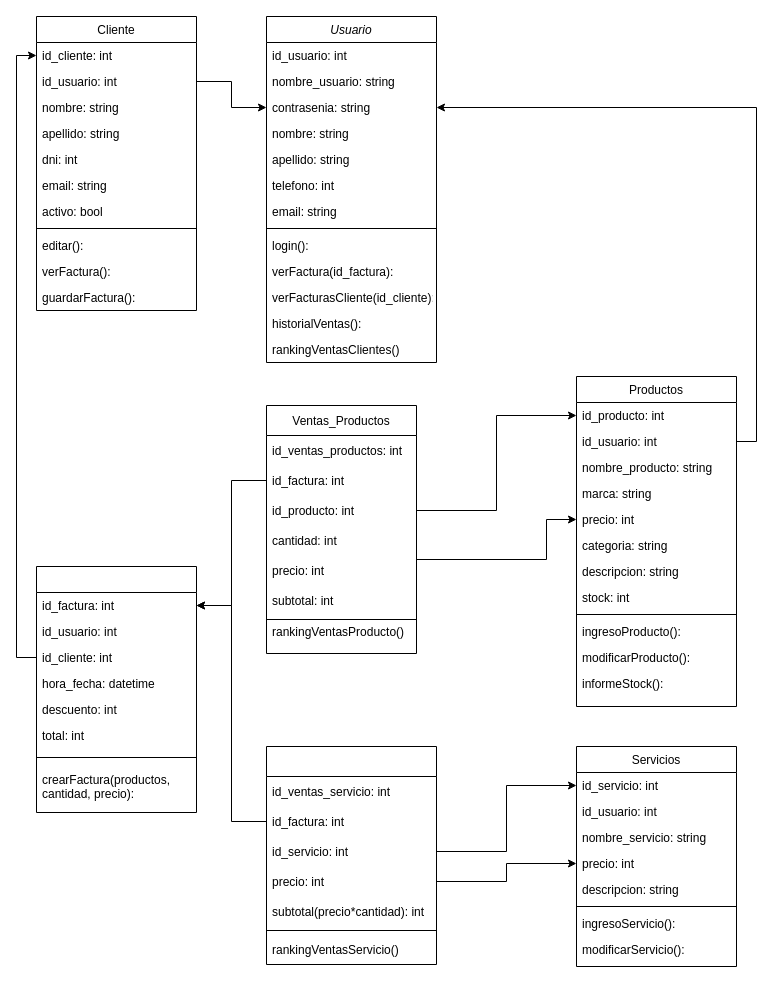
This 773x983 diagram has some shape labels left out. The shapes that lost their labels are listed below. From the top down, each one's box as (x1, y1, x2, y2) in pixels, then its label:
(36, 566, 196, 812): Facturas
(266, 746, 436, 964): Ventas_Servicios
